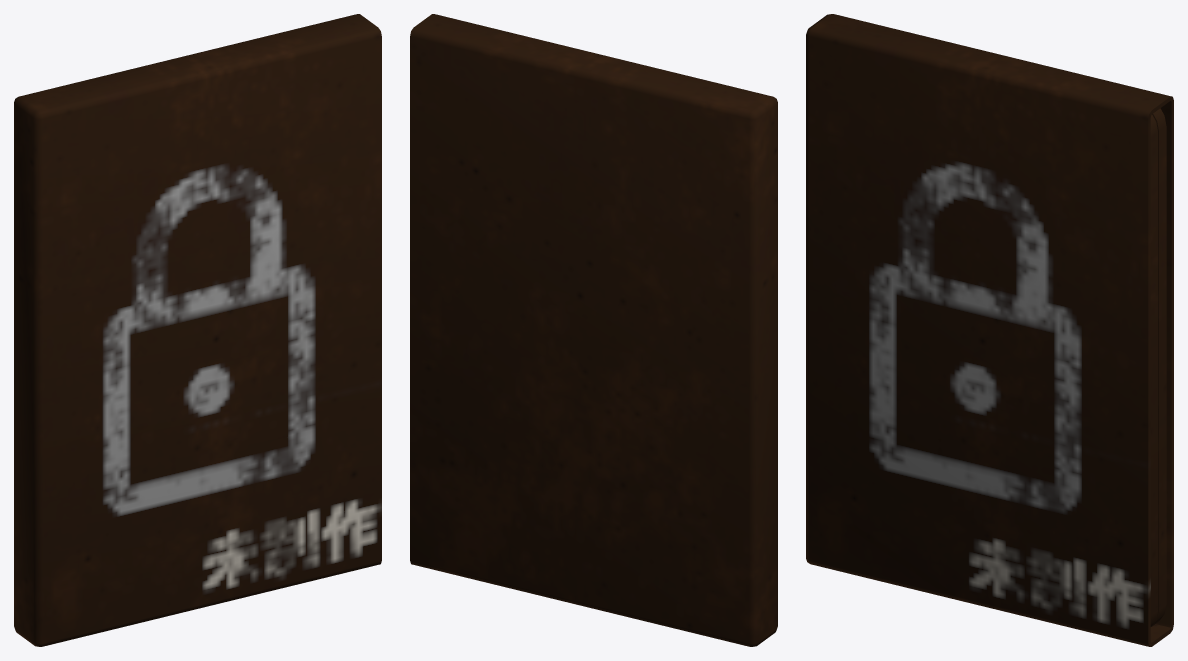
The model's file is package_01.glb.
3 views of the same model, side by side, from view 1: azimuth 30°, elevation 25°; view 2: azimuth 150°, elevation 25°; view 3: azimuth 330°, elevation 25° (orthographic).
Parts seen in each view (by area): view 1: Plane.002; view 2: Plane.002; view 3: Plane.002.
Boxes of the visible parts, x1,y1,x2,y2 form: Plane.002: (14,14,381,646); Plane.002: (410,14,777,646); Plane.002: (806,14,1173,646).
Bounding box in the file's own units: 0.5074 × 0.754 × 0.0653.
Materials: 1 (1 with a texture image).
